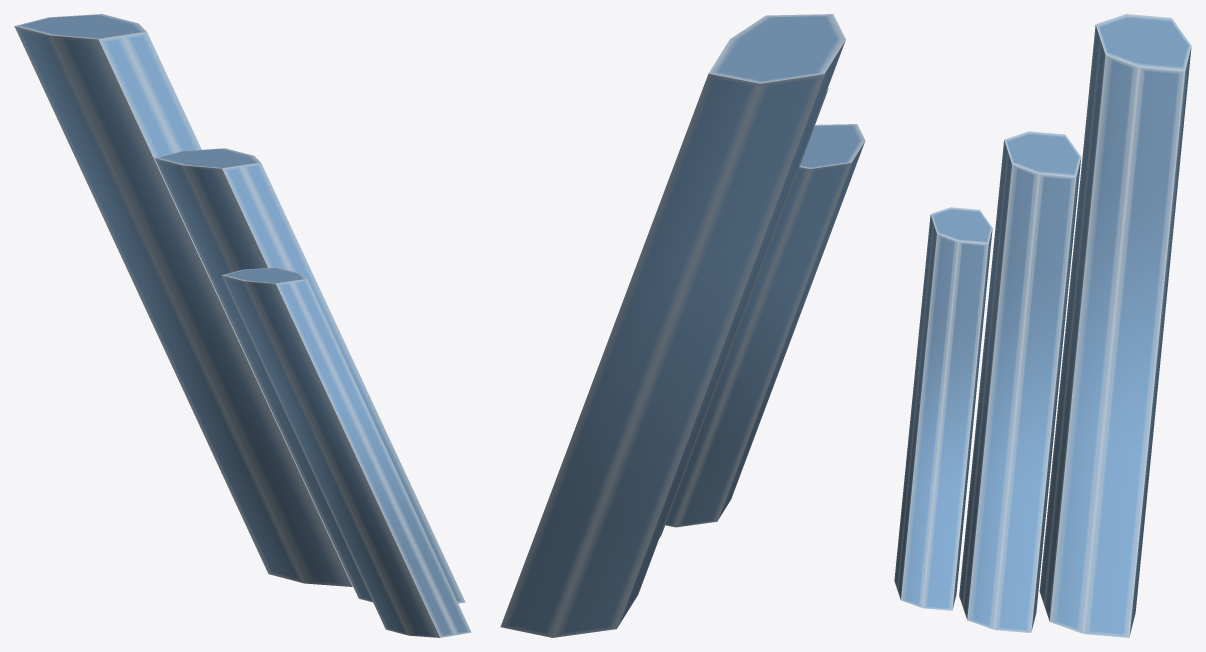
Rendered from wall_crystal_pipes_07.fbx.
The picture shows the model from 3 angles, left to right: view 1: azimuth 30°, elevation 25°; view 2: azimuth 150°, elevation 25°; view 3: azimuth 270°, elevation 25°; orthographic projection. The views are drawn at different scales.
Visible parts, largest first — view 1: wall_crystal_pipes_07; view 2: wall_crystal_pipes_07; view 3: wall_crystal_pipes_07.
Boxes of the visible parts, left/top/right/bottom form: wall_crystal_pipes_07: left=14, top=14, right=471, bottom=637; wall_crystal_pipes_07: left=500, top=14, right=865, bottom=637; wall_crystal_pipes_07: left=894, top=14, right=1191, bottom=637.
Size of the model in its own units: 1.61 by 2.75 by 1.48.
Materials: 1 (1 with a texture image).
